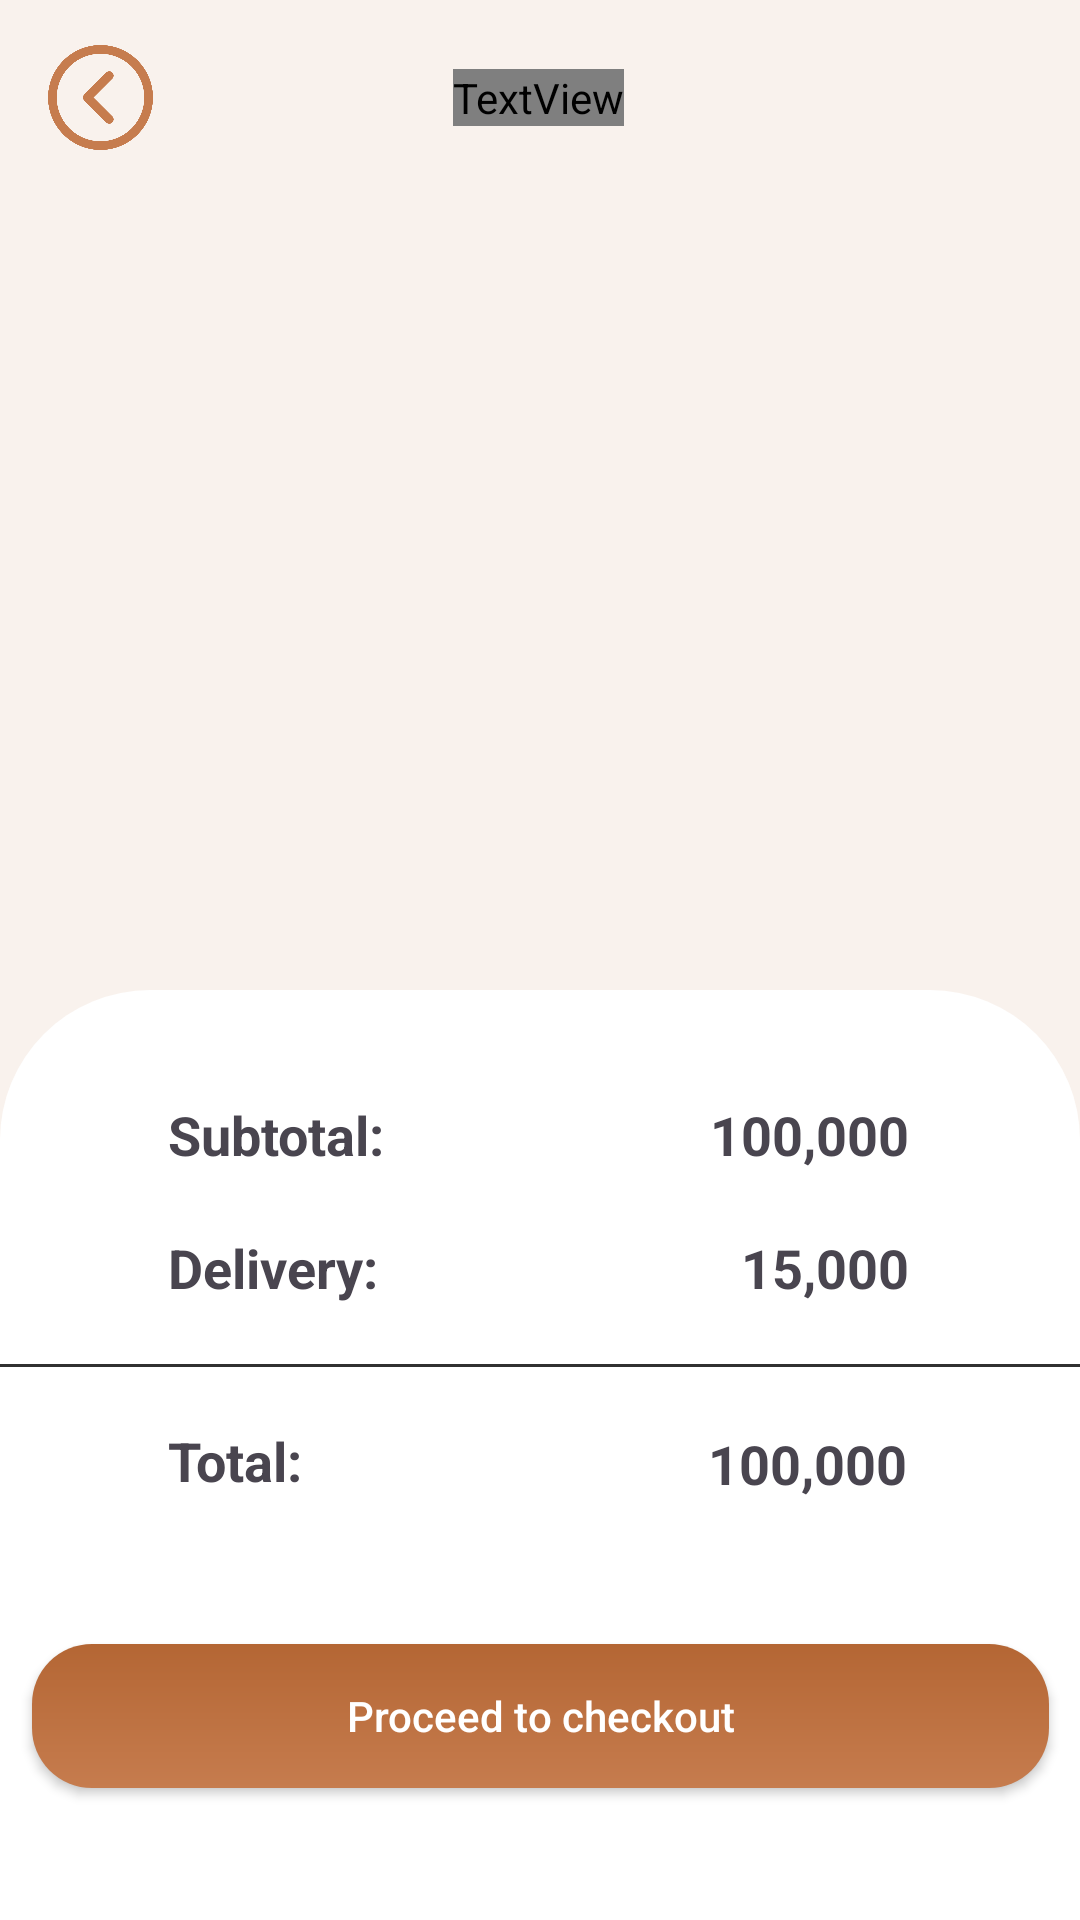

Locate icon controls on the screen. Image size 1080 × 1920, boxes as (x1, y1, x2, y2).
back: (48, 45, 153, 150)
